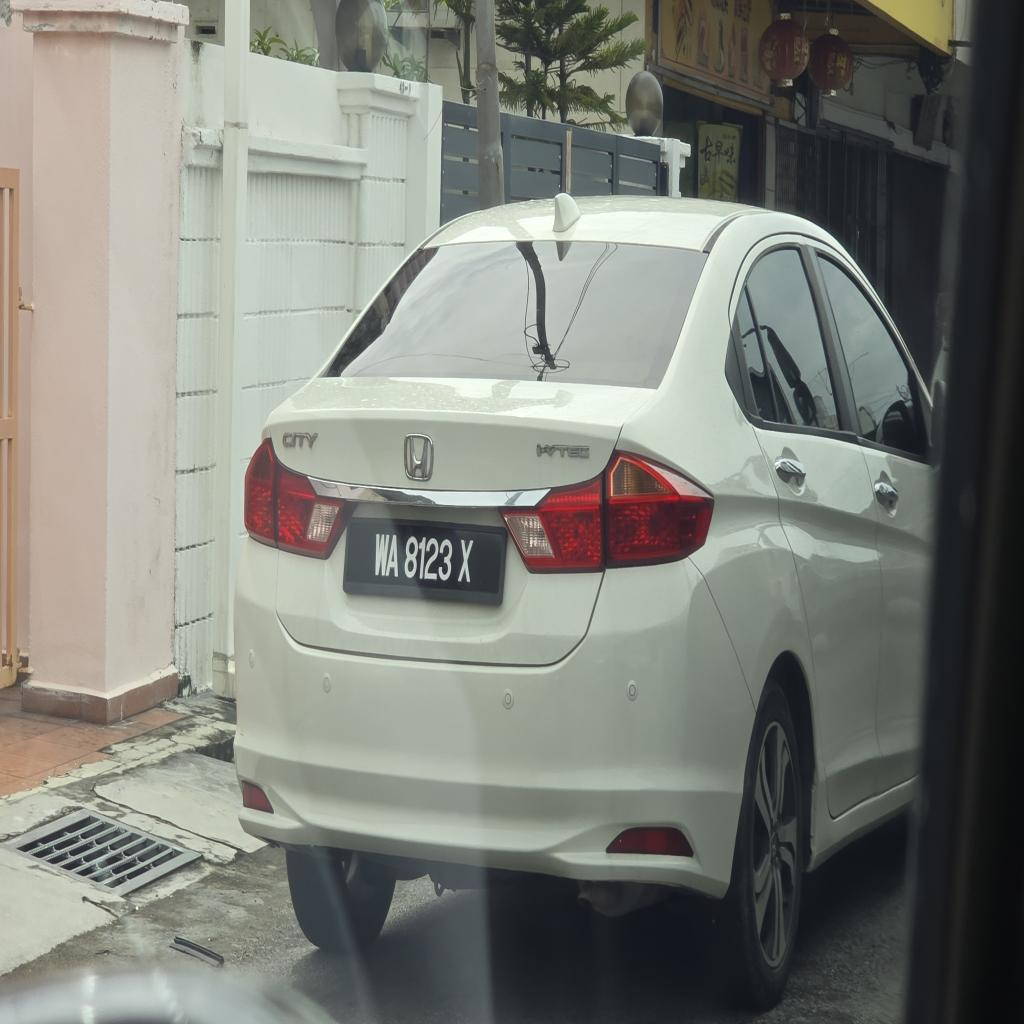car: (235, 196, 932, 1006)
car plate: (344, 519, 507, 604)
